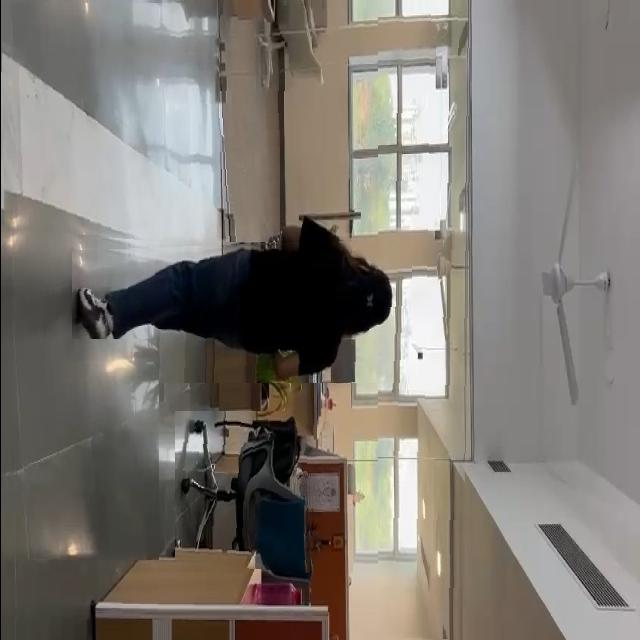floor: (0, 3, 214, 247), (0, 339, 158, 560), (217, 105, 279, 242)
furniture: (174, 411, 315, 573), (217, 0, 347, 91)
moving_object: (71, 238, 412, 383)
wall: (377, 14, 471, 640)
